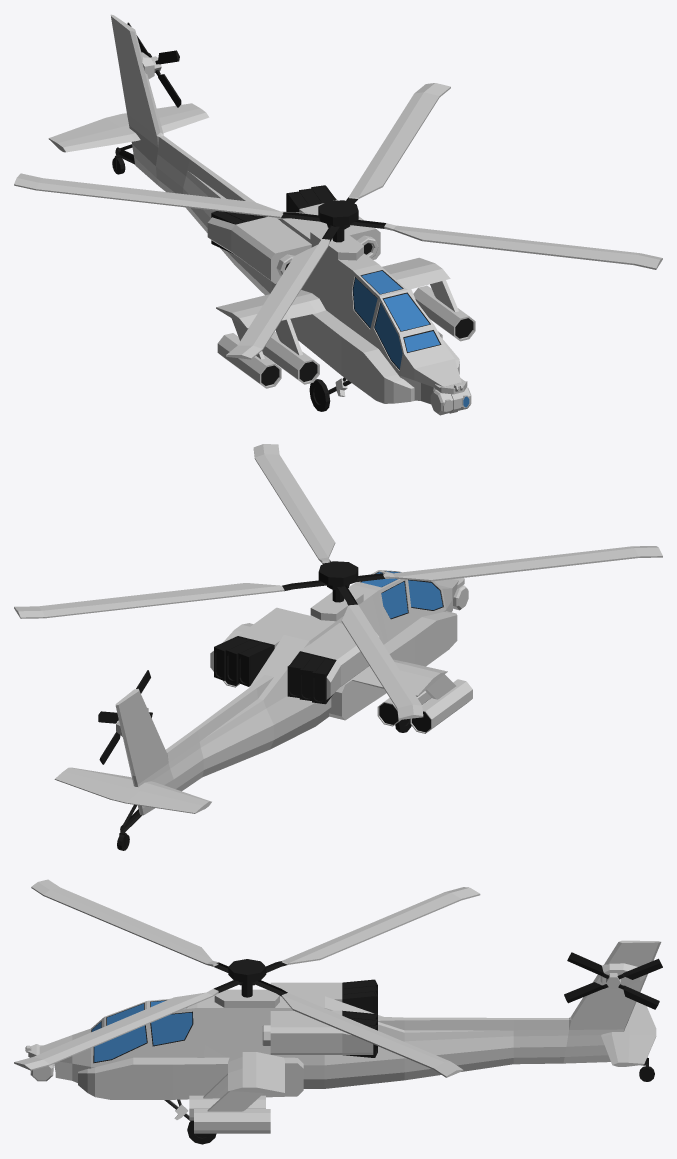
File: apache.obj
3 renders of one model, top to bottom at view 1: azimuth 30°, elevation 25°; view 2: azimuth 150°, elevation 25°; view 3: azimuth 270°, elevation 25°, orthographic. The views are drawn at different scales.
Visible parts, largest first — view 1: Body_Object_4_Object_0, Propeller_Object_10_Object_4, Rotor_Object_8_Object_3, Back_Propeller_Object_39_Object_21, Propeller_Base_Object_11_Object_5; view 2: Body_Object_4_Object_0, Propeller_Object_10_Object_4, Rotor_Object_8_Object_3, Propeller_Base_Object_11_Object_5, Back_Propeller_Object_39_Object_21; view 3: Body_Object_4_Object_0, Propeller_Object_10_Object_4, Back_Propeller_Object_39_Object_21, Rotor_Object_8_Object_3, Propeller_Base_Object_11_Object_5.
Boxes of the visible parts, x1,y1,x2,y2 form: Body_Object_4_Object_0: [48, 14, 475, 415]; Propeller_Object_10_Object_4: [14, 83, 662, 359]; Rotor_Object_8_Object_3: [318, 200, 358, 242]; Back_Propeller_Object_39_Object_21: [127, 22, 181, 107]; Propeller_Base_Object_11_Object_5: [281, 197, 385, 241]; Body_Object_4_Object_0: [54, 570, 472, 850]; Propeller_Object_10_Object_4: [14, 444, 662, 719]; Rotor_Object_8_Object_3: [318, 561, 358, 602]; Propeller_Base_Object_11_Object_5: [282, 561, 385, 605]; Back_Propeller_Object_39_Object_21: [98, 670, 152, 764]; Body_Object_4_Object_0: [25, 940, 661, 1144]; Propeller_Object_10_Object_4: [14, 879, 480, 1077]; Back_Propeller_Object_39_Object_21: [564, 952, 662, 1009]; Rotor_Object_8_Object_3: [228, 959, 266, 997]; Propeller_Base_Object_11_Object_5: [213, 961, 287, 996].
Bounding box in the file's own units: 2.19 × 0.947 × 3.05.
